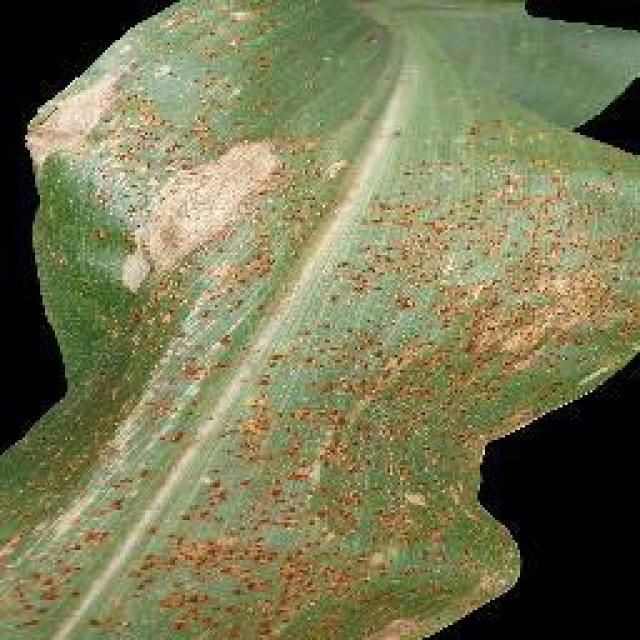Corn Common Rust: (65, 68, 497, 582)
